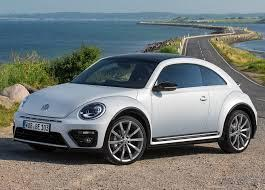volkswagen: (35, 100, 52, 114)
